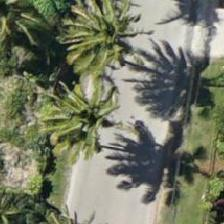coconut_tree: (28, 68, 118, 158), (48, 0, 138, 84)
